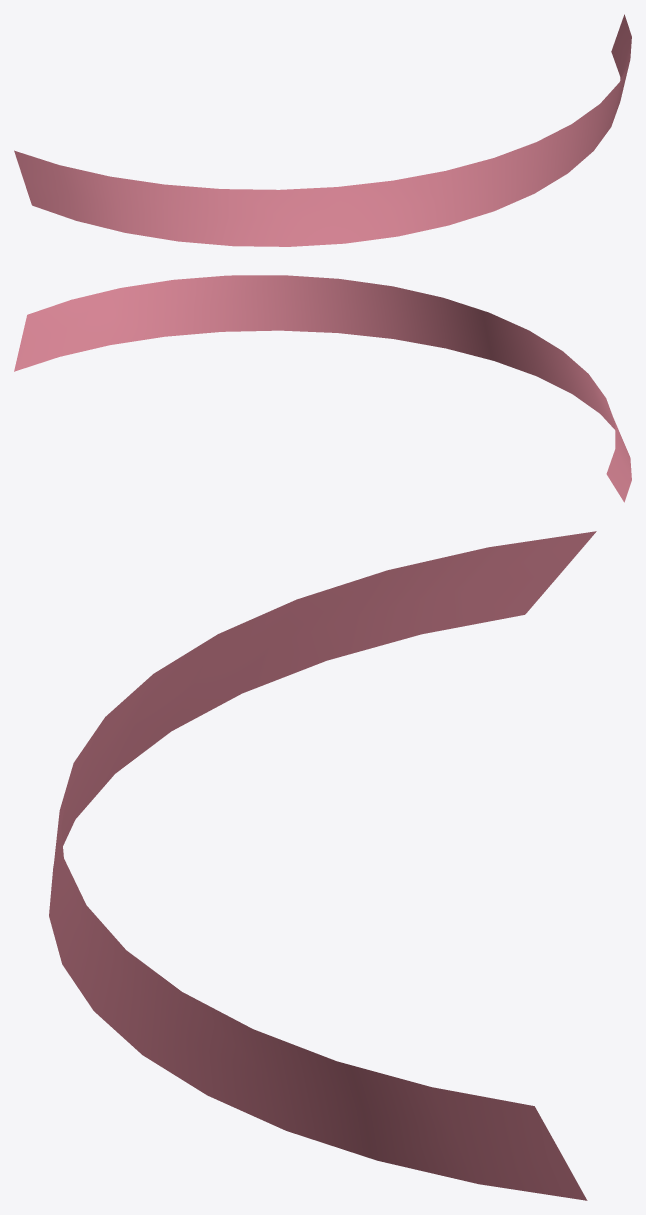
Rendered from wind_wind2_wind2_weapon.glb.
3 views of the same model, one above another, from view 1: azimuth 30°, elevation 25°; view 2: azimuth 150°, elevation 25°; view 3: azimuth 270°, elevation 25° (orthographic). The views are drawn at different scales.
Size of the model in its own units: 1.87 by 0.1595 by 0.7473.
